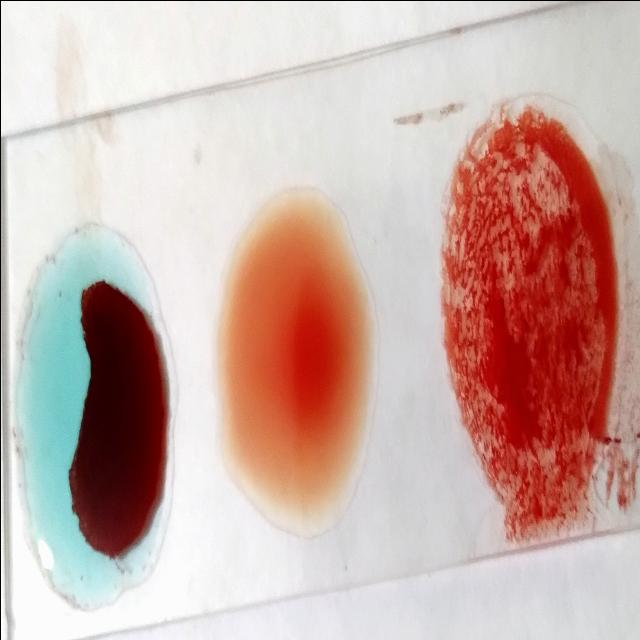A: (9, 217, 180, 614)
D: (443, 107, 614, 521)
